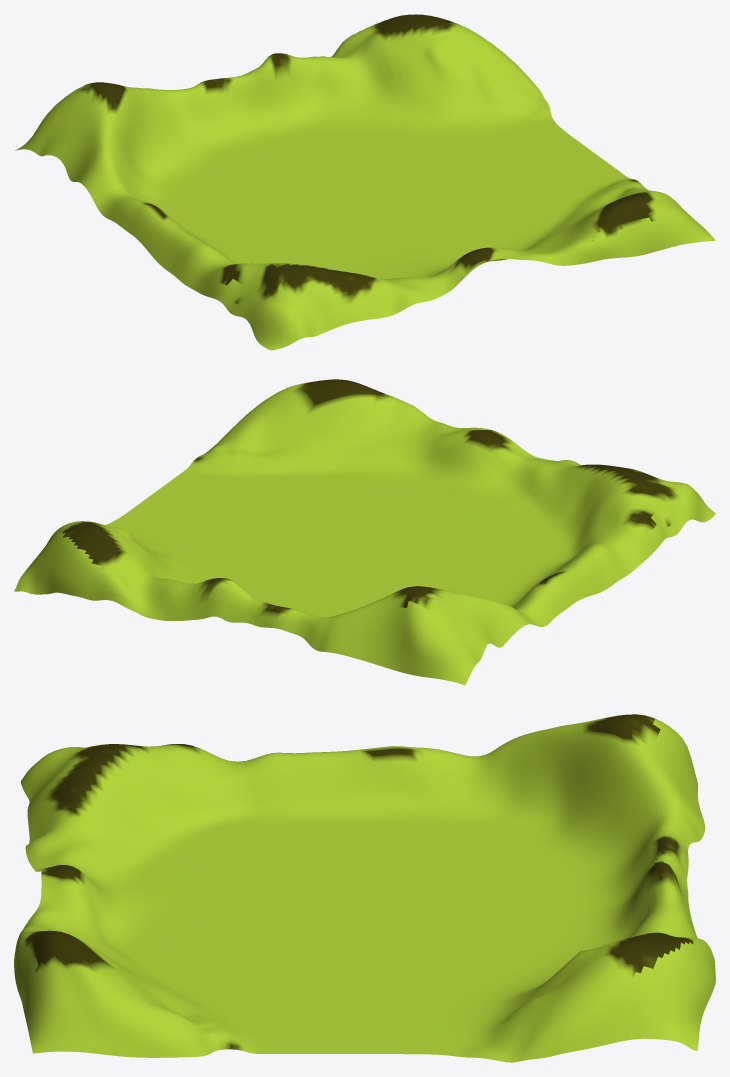
File: isla central prueba 3.fbx
3 views of the same model, one above another, from view 1: azimuth 30°, elevation 25°; view 2: azimuth 150°, elevation 25°; view 3: azimuth 270°, elevation 25° (orthographic). The views are drawn at different scales.
Visible parts, largest first — view 1: Plane; view 2: Plane; view 3: Plane.
Part boxes in pixels (<box>): Plane: <box>15,14,715,350</box>; Plane: <box>14,379,715,685</box>; Plane: <box>14,714,715,1062</box>.
Size of the model in its own units: 1854 by 301 by 1891.
